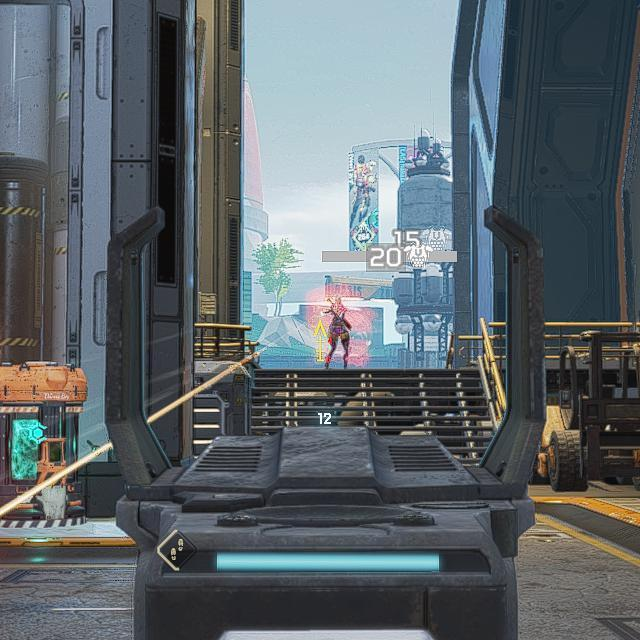avatar: (322, 294, 354, 369)
